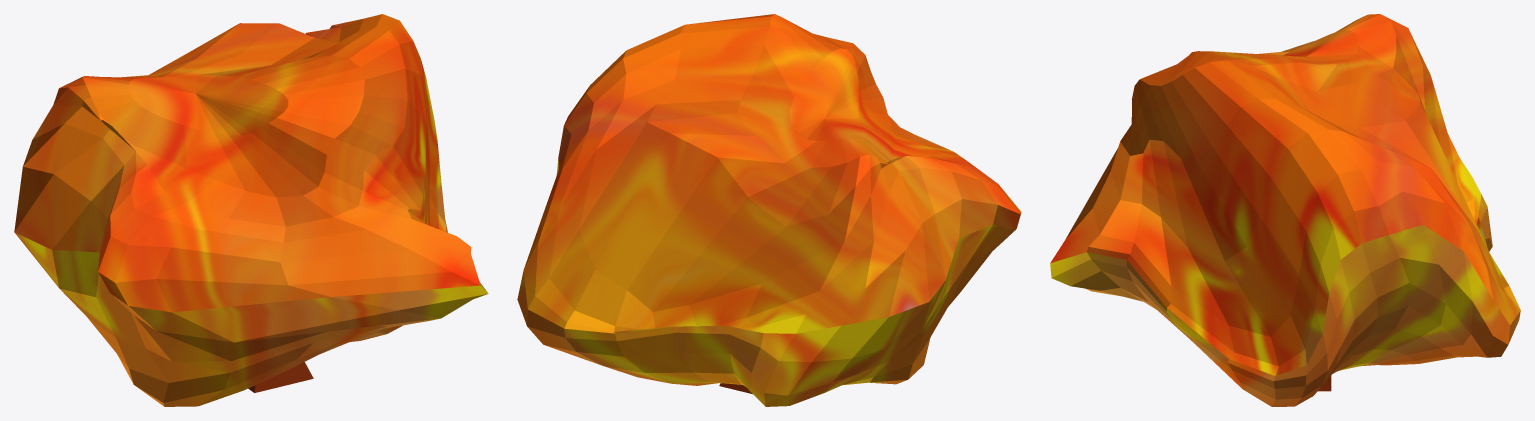
The model's file is fire bush.obj.
3 renders of one model, left to right at view 1: azimuth 30°, elevation 25°; view 2: azimuth 150°, elevation 25°; view 3: azimuth 270°, elevation 25°, orthographic. The views are drawn at different scales.
Parts seen in each view (by area): view 1: Cube; view 2: Cube; view 3: Cube.
Boxes of the visible parts, left/top/right/bottom form: Cube: left=14, top=14, right=488, bottom=406; Cube: left=517, top=14, right=1021, bottom=406; Cube: left=1050, top=14, right=1520, bottom=406.
Size of the model in its own units: 2.87 by 2.28 by 2.92.
Materials: 1 (1 with a texture image).
